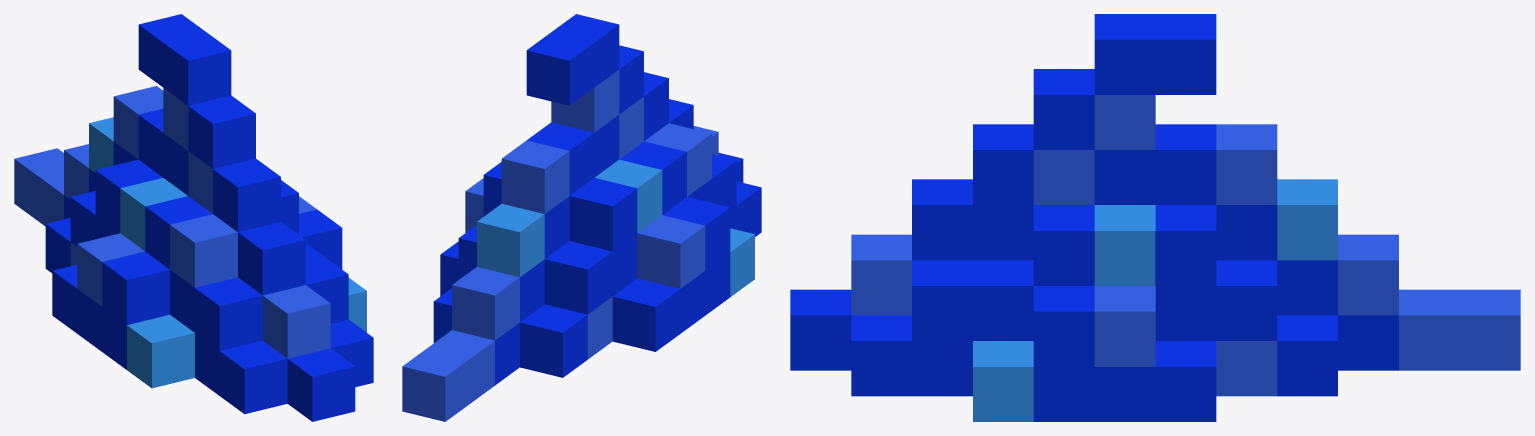
File: Slime_Idle0.obj
The picture shows the model from 3 angles, left to right: view 1: azimuth 30°, elevation 25°; view 2: azimuth 150°, elevation 25°; view 3: azimuth 270°, elevation 25°; orthographic projection. The views are drawn at different scales.
Size of the model in its own units: 5 by 6 by 12.
Materials: 1 (1 with a texture image).
